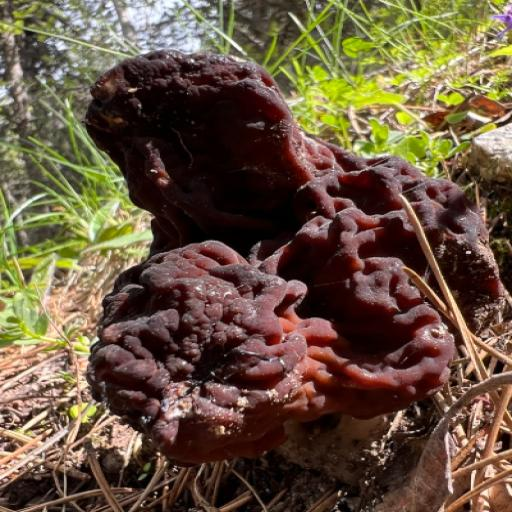False Morel: (0, 4, 512, 512)
